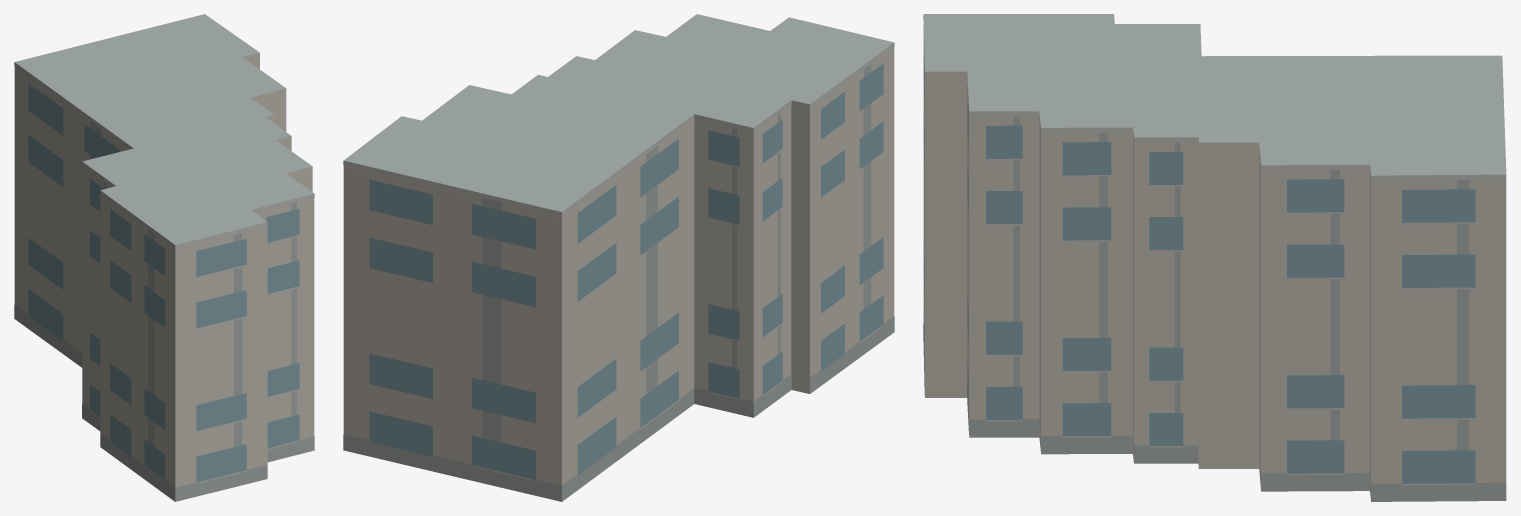
File: survey-upis-32838259.glb
3 renders of one model, left to right at view 1: azimuth 30°, elevation 25°; view 2: azimuth 150°, elevation 25°; view 3: azimuth 270°, elevation 25°, orthographic. The views are drawn at different scales.
Visible parts, largest first — view 1: survey-upis-32838259.tmp; view 2: survey-upis-32838259.tmp; view 3: survey-upis-32838259.tmp.
Part boxes in pixels (bbox=[...]): survey-upis-32838259.tmp: bbox=[14, 14, 314, 501]; survey-upis-32838259.tmp: bbox=[343, 14, 894, 501]; survey-upis-32838259.tmp: bbox=[923, 14, 1506, 501].
Bounding box in the file's own units: 16.22 × 15.25 × 24.7.
